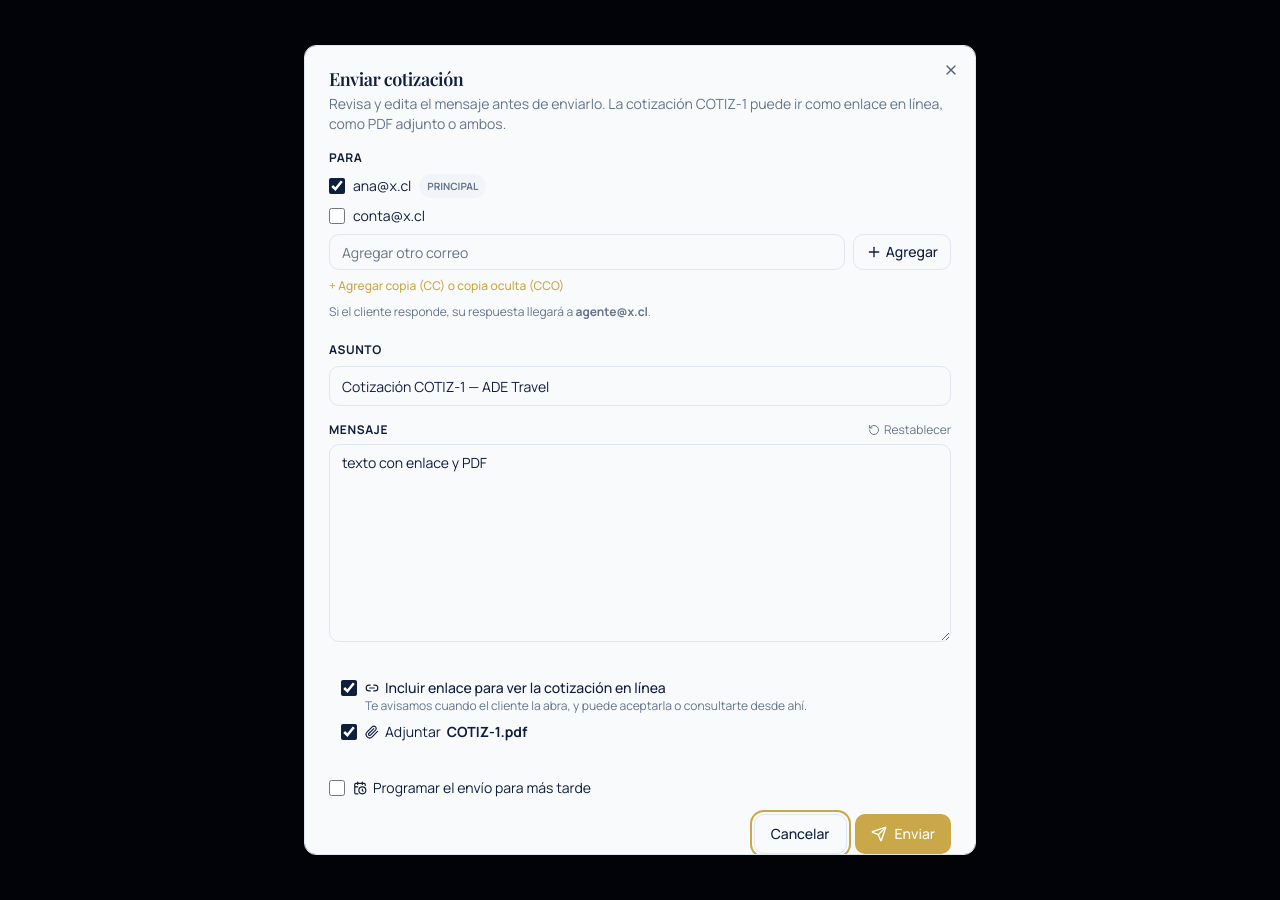
SendQuotationDialog › copias, qué se envía y programación › sin enlace ni PDF no se puede enviar y lo explica
Expected: the field labelled "Asunto" is shown, [329,366,951,406]
Click the checkbox labelled "enlace para ver la cotización en línea" at point(349, 688), box [341,680,357,696]
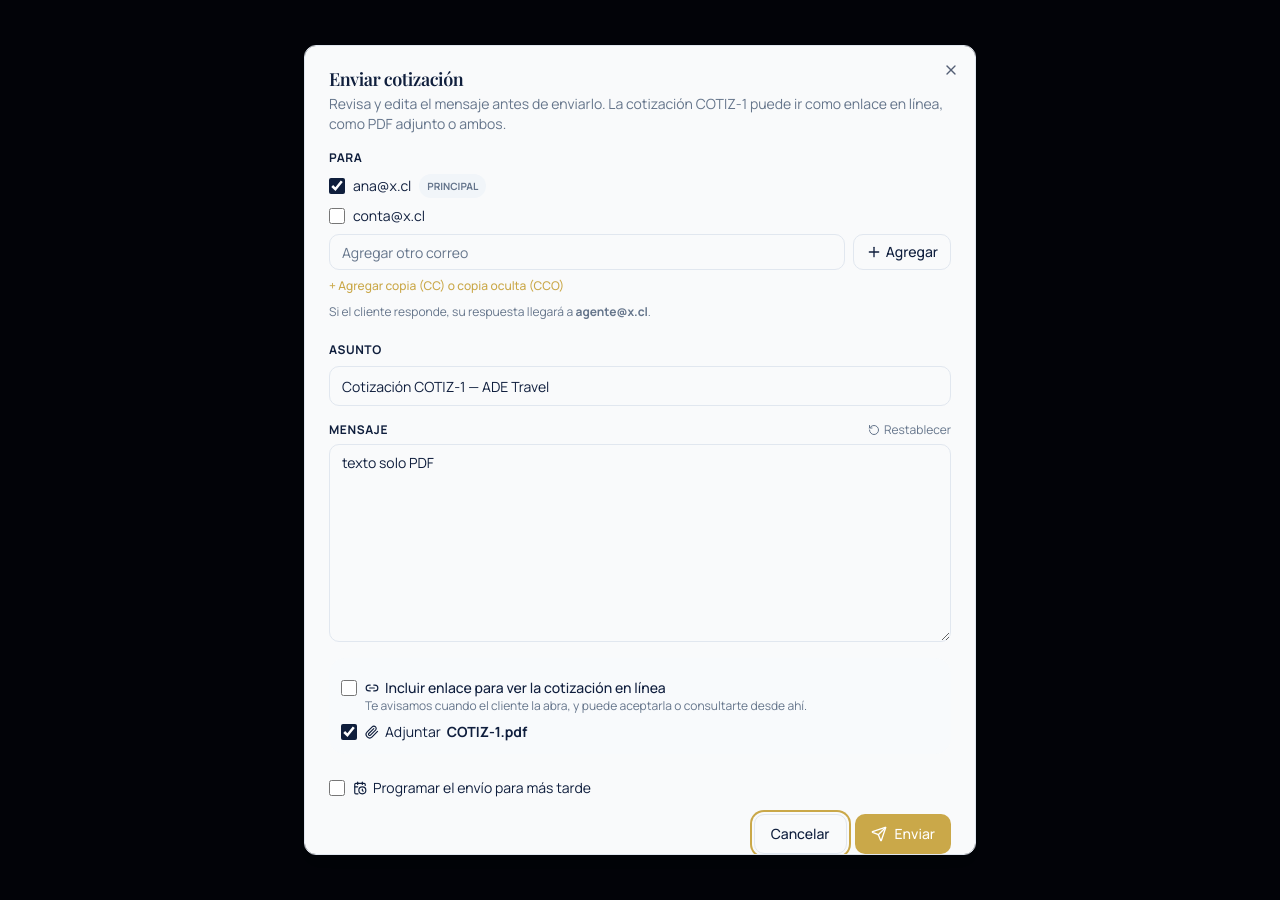
Click the checkbox labelled "Adjuntar COTIZ-1.pdf" at point(349, 732), box [341,724,357,740]
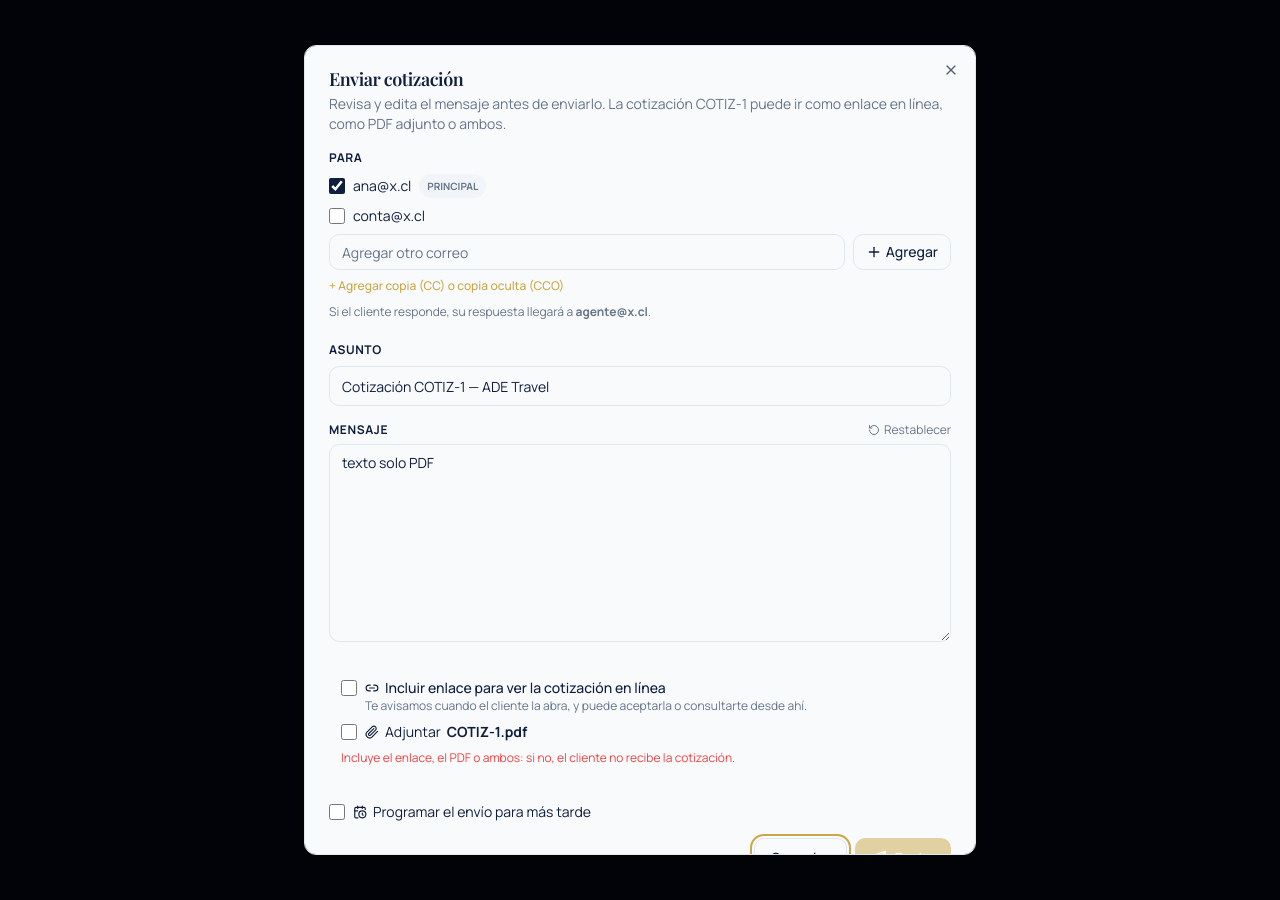
Now the text "Incluye el enlace, el PDF o ambos: si no, el cliente no recibe la cotización." is shown, box [341,749,735,766]
